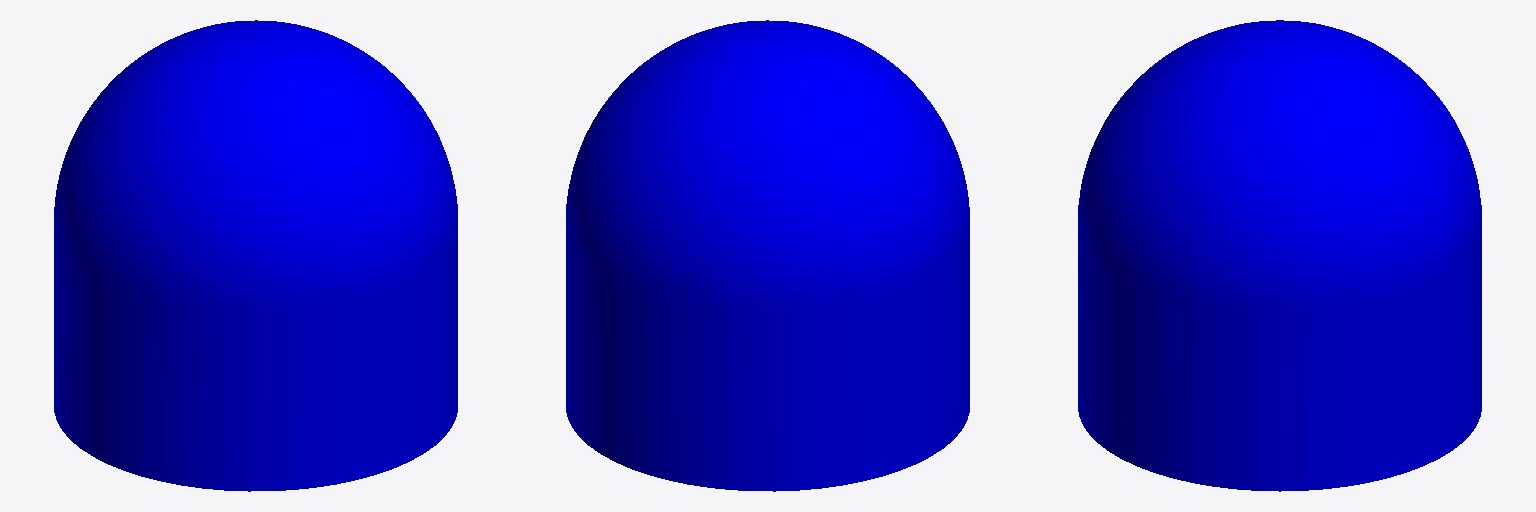
robot.urdf — bumps_40_red.urdf:
<?xml version="0.0" ?>
<robot name="bumps_40_red.urdf">
    <link name="baseLink">
        <contact>
            <lateral_friction value="0.2"/>
            <rolling_friction value="0.0001"/>
            <inertia_scaling value="3.0"/>
        </contact>
        <inertial>
            <origin rpy="0 0 0" xyz="0 0 0"/>
            <mass value="0.1"/>
            <inertia ixx="1" ixy="0" ixz="0" iyy="1" iyz="0" izz="1"/>
        </inertial>

        <visual>
            <origin rpy="0 0 0" xyz="0 0 0"/>
            <geometry>
                <mesh filename="bump_40.stl"/>
            </geometry>
            <material name="red">
                <color rgba="0 0 1 1"/>
            </material>
        </visual>
        <collision>
            <origin rpy="0 0 0" xyz="0 0 0"/>
            <geometry>
                <mesh filename="bump_40.stl"/>
            </geometry>
        </collision>
    </link>
</robot>

--- Render facts (derived) ---
3 views of the same robot in one strip: view 1: azimuth 30°, elevation 25°; view 2: azimuth 150°, elevation 25°; view 3: azimuth 270°, elevation 25° (orthographic).
Robot: bumps_40_red.urdf — 1 links, 0 joints (none); root link baseLink; default pose: all joints at 0.
Links seen in each view (by area): view 1: baseLink; view 2: baseLink; view 3: baseLink.
Boxes of the visible links, <box> form: baseLink: <box>54,20,457,491</box>; baseLink: <box>566,20,969,491</box>; baseLink: <box>1078,20,1481,491</box>.
Size in the robot's own frame: 0.04 by 0.04 by 0.04 metres.
Meshes: 1 distinct files referenced, 1 mesh visuals loaded (1 binary STL).